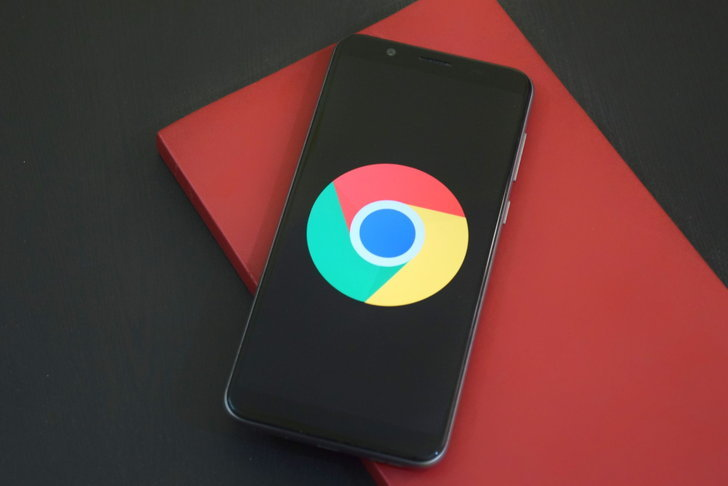Phone: (222, 32, 535, 470)
